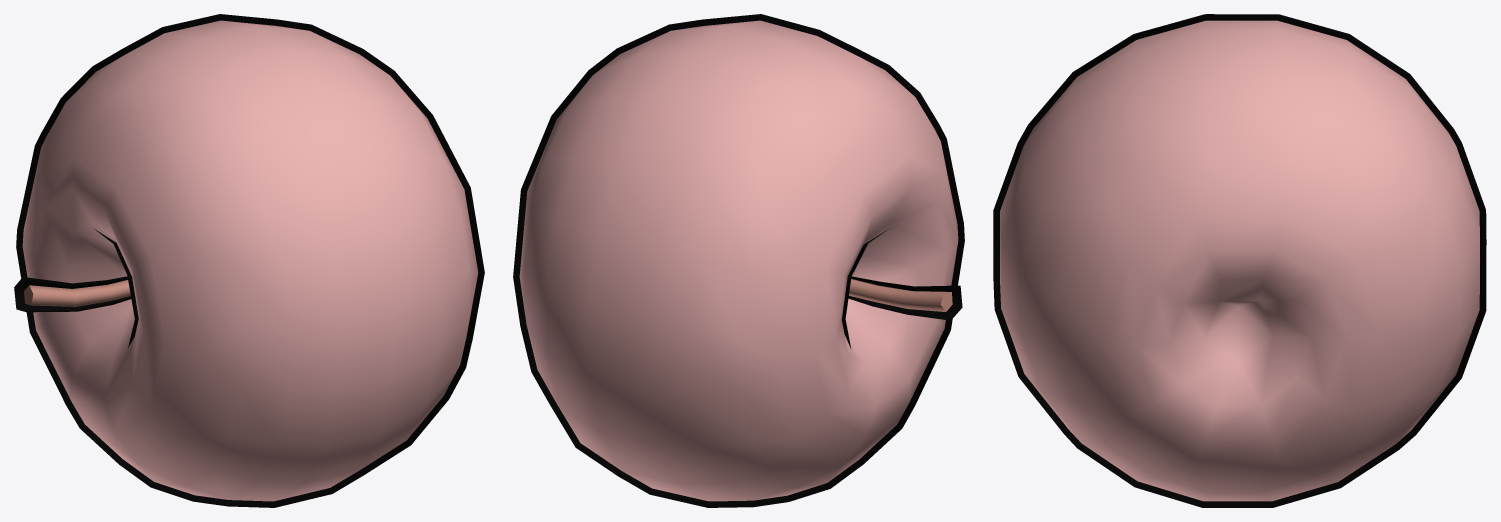
File: Wheel_Large_Apple_01.fbx
3 renders of one model, left to right at view 1: azimuth 30°, elevation 25°; view 2: azimuth 150°, elevation 25°; view 3: azimuth 270°, elevation 25°, orthographic.
Visible parts, largest first — view 1: WH_Apple, WH_Apple_Black; view 2: WH_Apple, WH_Apple_Black; view 3: WH_Apple, WH_Apple_Black.
Part boxes in pixels (x1,y1,x2,y2): WH_Apple: [22, 20, 478, 501]; WH_Apple_Black: [14, 14, 484, 507]; WH_Apple: [519, 20, 958, 501]; WH_Apple_Black: [513, 14, 964, 507]; WH_Apple: [1000, 20, 1479, 501]; WH_Apple_Black: [993, 14, 1486, 507].
Bounding box in the file's own units: 145 × 152 × 152.
